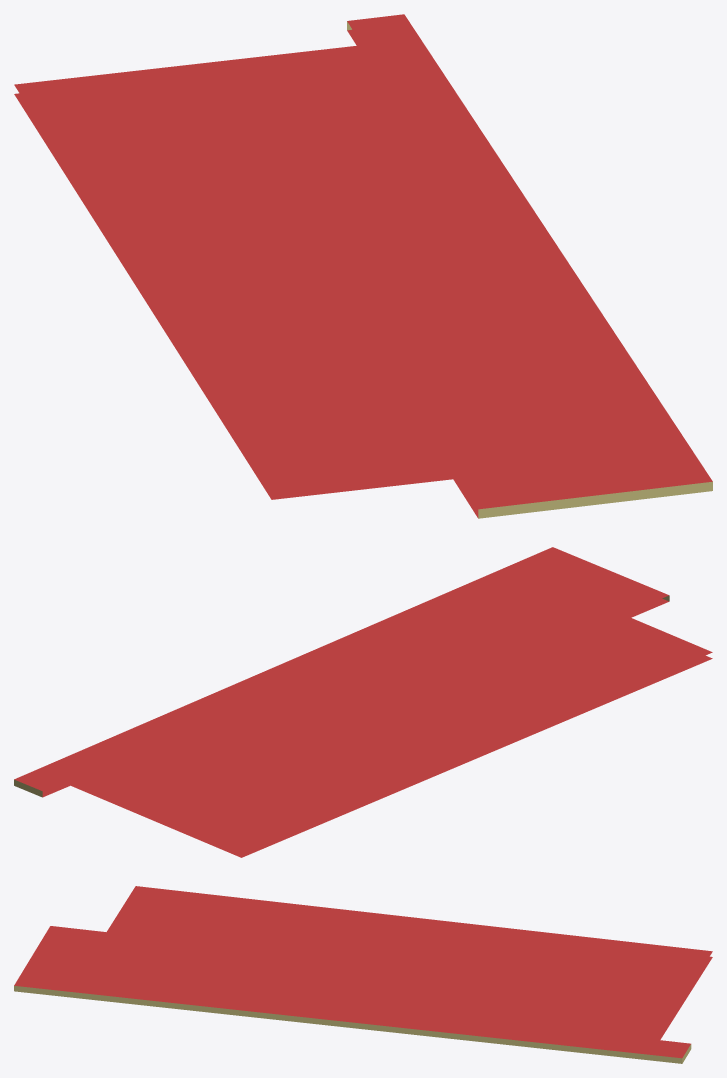
3 views of the same model, one above another, from view 1: azimuth 30°, elevation 25°; view 2: azimuth 150°, elevation 25°; view 3: azimuth 270°, elevation 25° (orthographic). The views are drawn at different scales.
Bounding box in the file's own units: 6.57 × 11.26 × 0.1.
